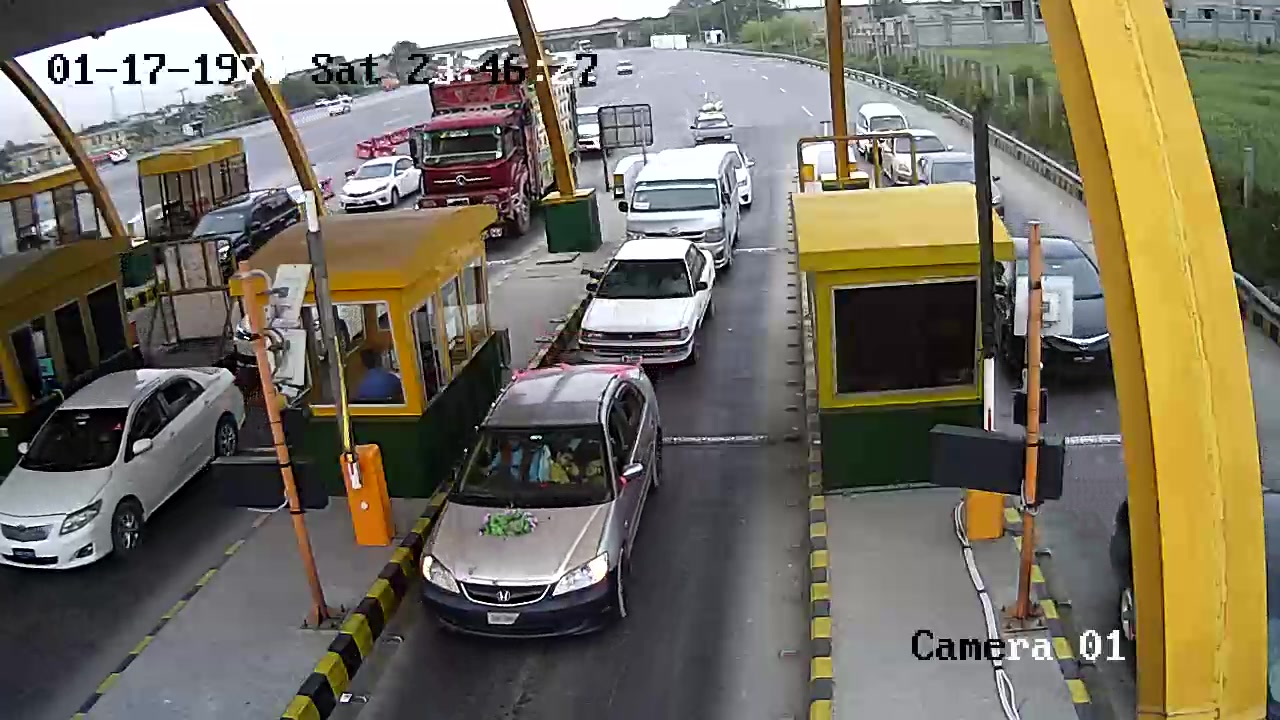F1: (403, 362, 682, 646)
